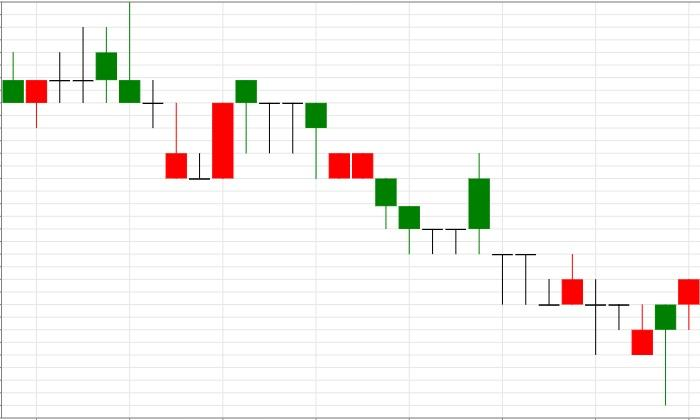hanging_man_fall: (165, 79, 257, 180)
